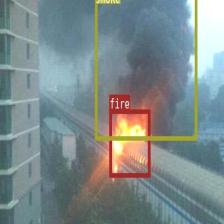fire: (109, 108, 150, 176)
smoke: (94, 0, 196, 139)
